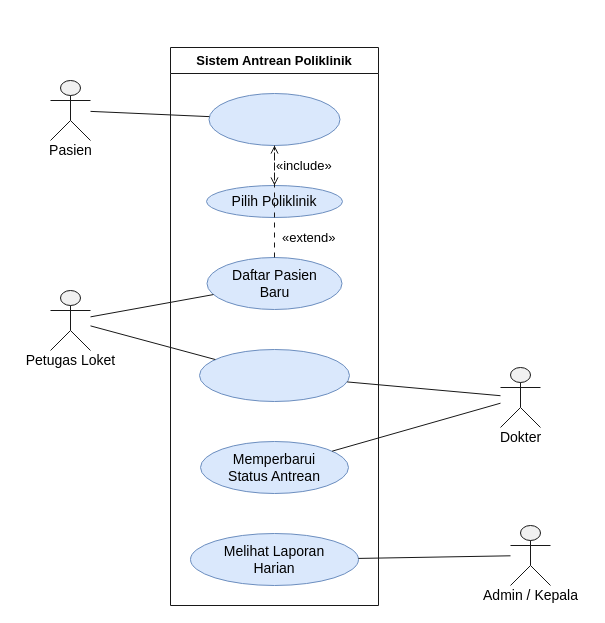
The diagram is 605 pixels wide and 623 high, and some of its shapes have lost their labels. The shapes that lost their labels are listed below. From the top down, each one's box as (x1, y1, x2, y2) in pixels, then its label:
(208, 92, 340, 146): Ambil Nomor Antrean
(198, 348, 350, 402): Memanggil Nomor Antrean
